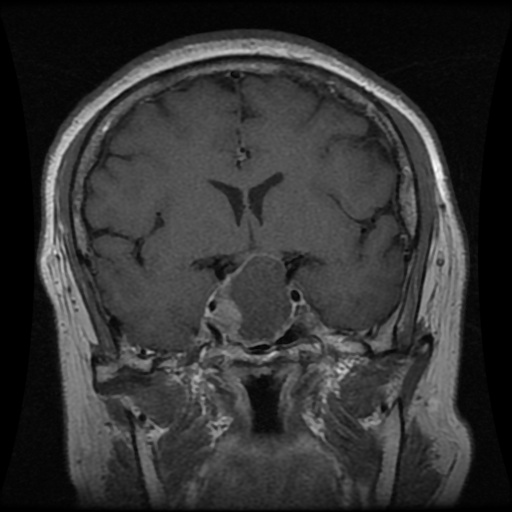pituitary: (215, 254, 292, 343)
